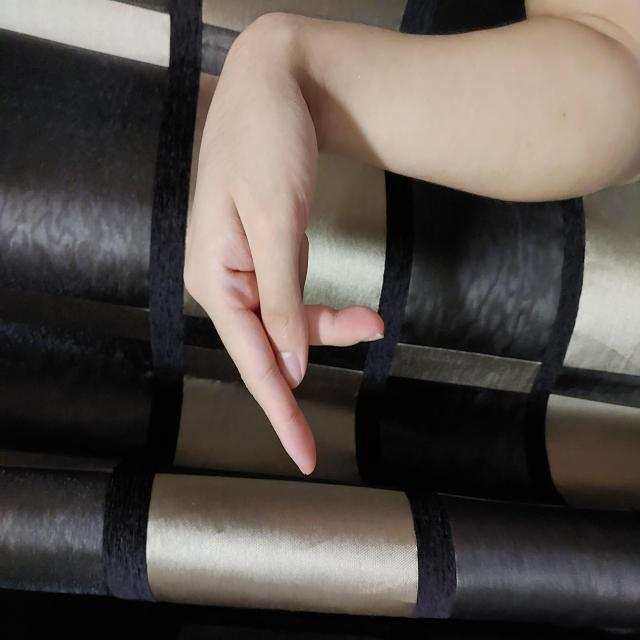P: (164, 180, 566, 386)
